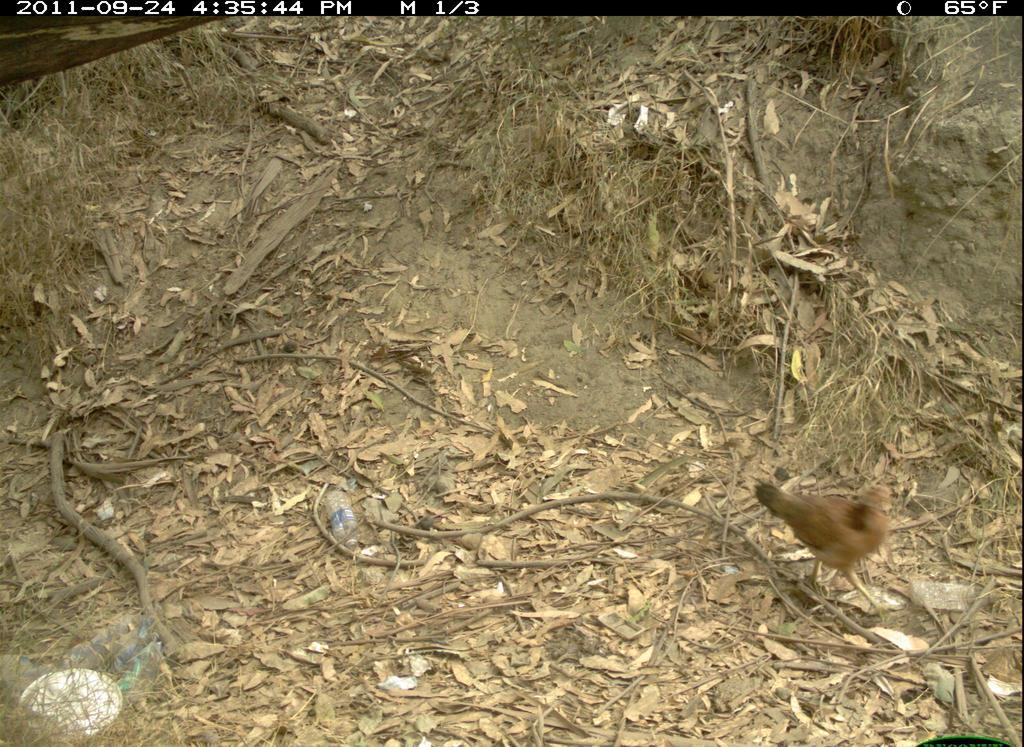bird: (745, 464, 929, 607)
